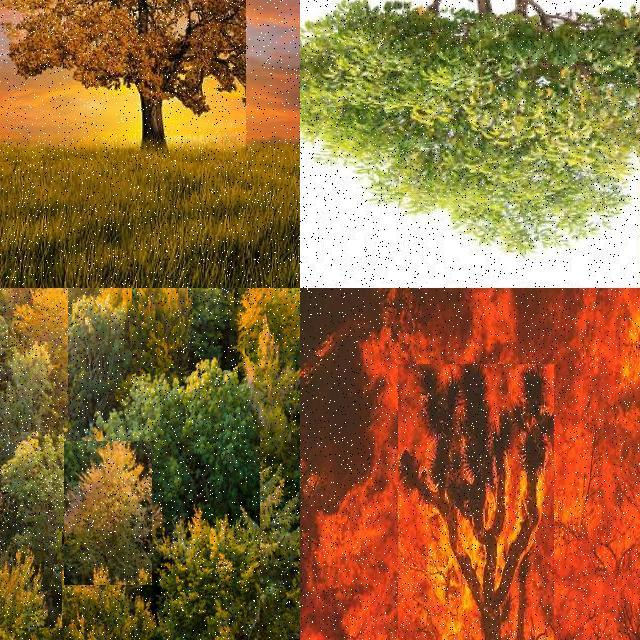tree: (300, 0, 640, 284), (398, 364, 554, 640), (0, 0, 246, 162), (162, 508, 296, 640), (64, 441, 152, 585), (0, 564, 160, 640), (190, 352, 262, 496), (104, 368, 182, 500), (0, 288, 68, 432), (0, 396, 66, 532), (0, 492, 62, 628), (260, 430, 300, 640), (60, 288, 132, 404), (0, 432, 52, 576), (0, 336, 48, 479), (0, 497, 60, 609), (242, 332, 300, 438), (237, 288, 300, 364), (132, 288, 188, 368), (0, 459, 28, 573)
